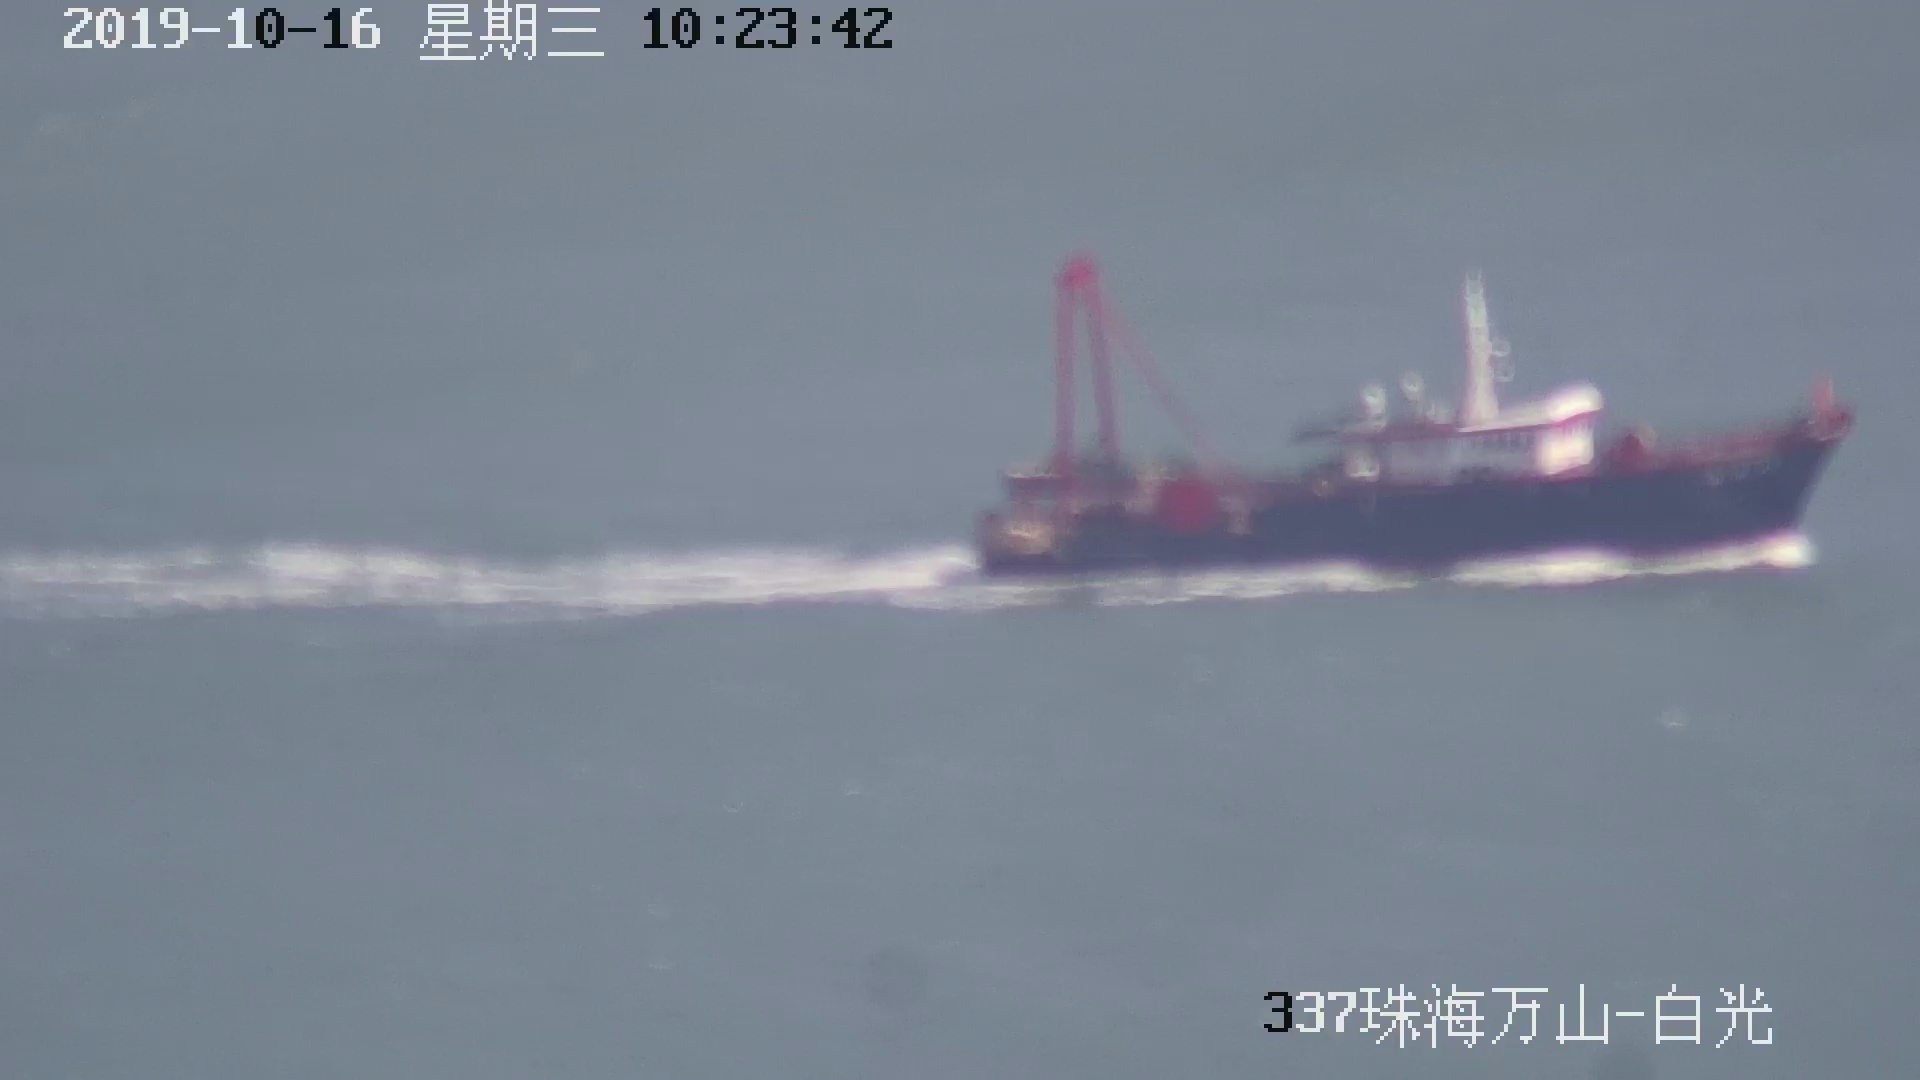ship: (973, 237, 1842, 579)
